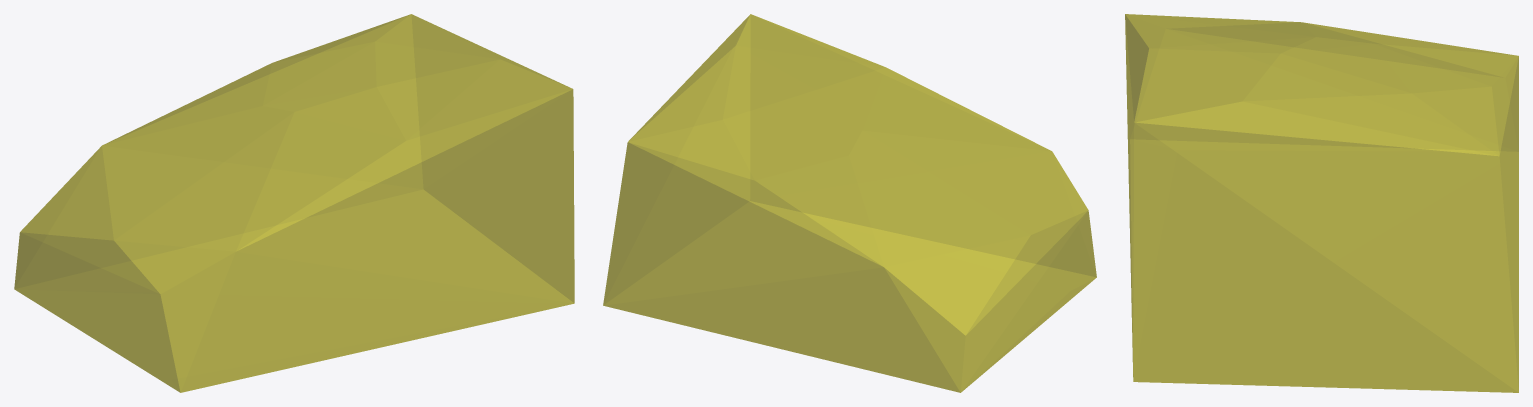
3 renders of one model, left to right at view 1: azimuth 30°, elevation 25°; view 2: azimuth 150°, elevation 25°; view 3: azimuth 270°, elevation 25°, orthographic. The views are drawn at different scales.
Parts seen in each view (by area): view 1: Shape_IndexedFaceSet.027_Shape_IndexedFaceSet.456; view 2: Shape_IndexedFaceSet.027_Shape_IndexedFaceSet.456; view 3: Shape_IndexedFaceSet.027_Shape_IndexedFaceSet.456.
Part boxes in pixels (bbox=[...]): Shape_IndexedFaceSet.027_Shape_IndexedFaceSet.456: bbox=[14, 14, 574, 392]; Shape_IndexedFaceSet.027_Shape_IndexedFaceSet.456: bbox=[603, 14, 1096, 392]; Shape_IndexedFaceSet.027_Shape_IndexedFaceSet.456: bbox=[1125, 14, 1518, 392].
Bounding box in the file's own units: 0.1781 × 0.0927 × 0.123.
